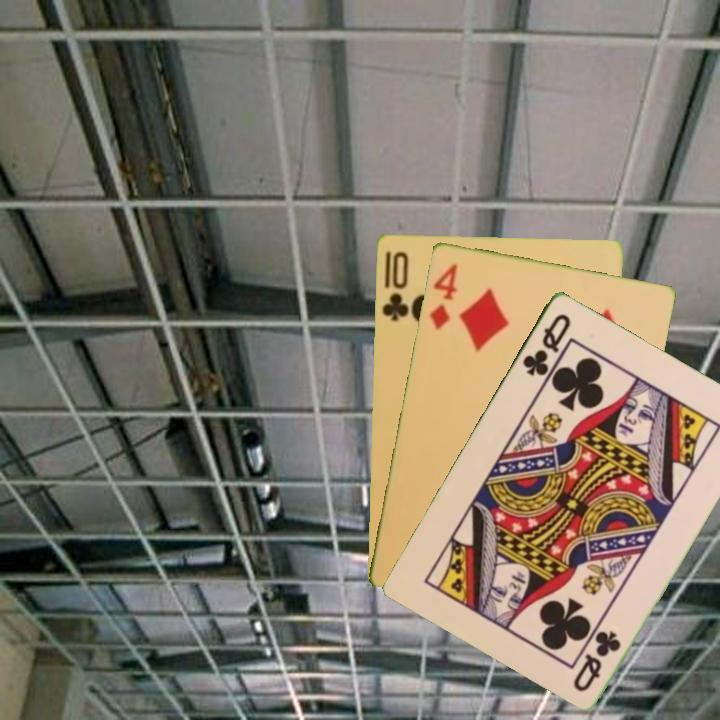10c: (378, 247, 412, 323)
4d: (426, 258, 460, 332)
Qc: (518, 309, 574, 379), (569, 626, 624, 695)
